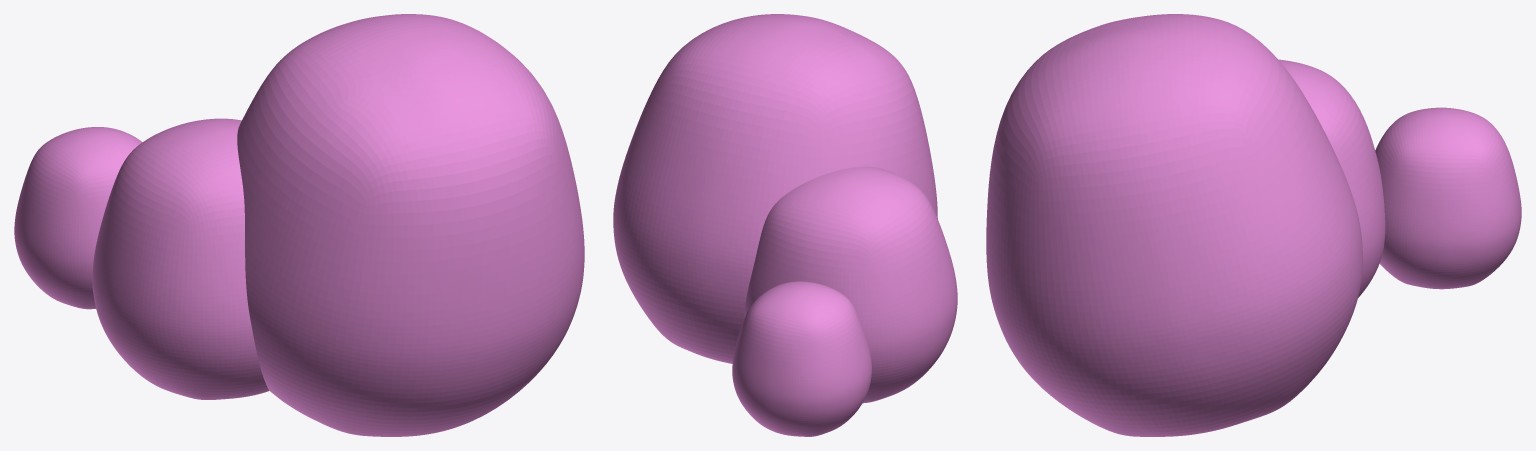
File: pinkbush.fbx
The picture shows the model from 3 angles, left to right: view 1: azimuth 30°, elevation 25°; view 2: azimuth 150°, elevation 25°; view 3: azimuth 270°, elevation 25°; orthographic projection. The views are drawn at different scales.
Parts seen in each view (by area): view 1: Roundcube.040, Roundcube.041, Roundcube.043; view 2: Roundcube.040, Roundcube.041, Roundcube.043; view 3: Roundcube.040, Roundcube.043, Roundcube.041.
Part boxes in pixels (bbox=[...]): Roundcube.040: bbox=[237, 14, 584, 436]; Roundcube.041: bbox=[92, 118, 269, 399]; Roundcube.043: bbox=[14, 127, 142, 309]; Roundcube.040: bbox=[613, 14, 937, 363]; Roundcube.041: bbox=[744, 166, 957, 403]; Roundcube.043: bbox=[732, 281, 871, 436]; Roundcube.040: bbox=[986, 14, 1362, 436]; Roundcube.043: bbox=[1375, 107, 1521, 289]; Roundcube.041: bbox=[1278, 59, 1385, 297].
Bounding box in the file's own units: 93.94 × 83.49 × 108.
